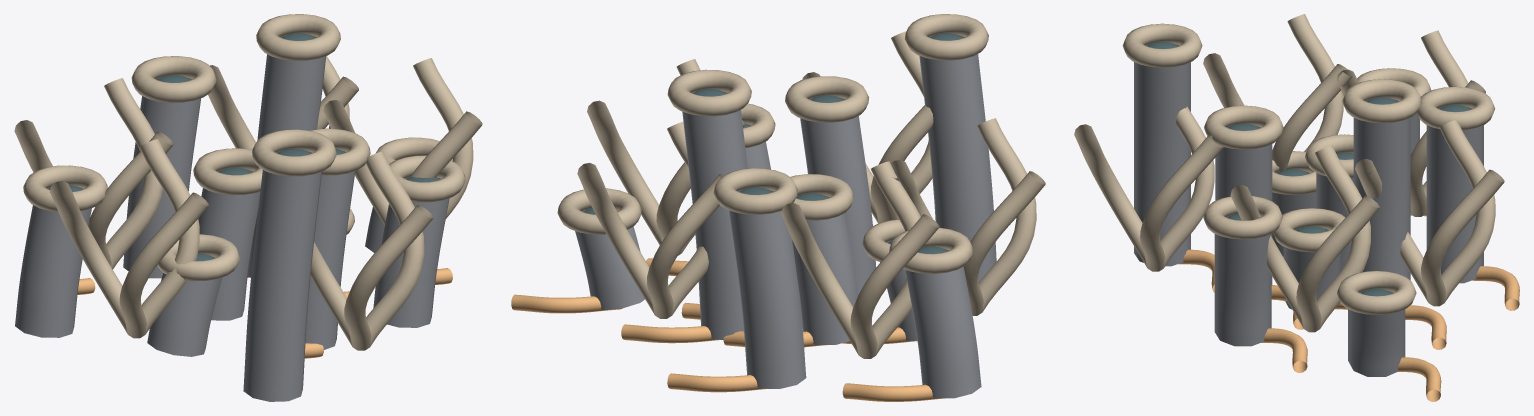
Rendered from bio_thermal_colony_04_near.glb.
The picture shows the model from 3 angles, left to right: view 1: azimuth 30°, elevation 25°; view 2: azimuth 150°, elevation 25°; view 3: azimuth 270°, elevation 25°; orthographic projection. The views are drawn at different scales.
Visible parts, largest first — view 1: Chimney biofilm.007, Spiral filament.012, Spiral filament.006, Spiral filament.003, Chimney biofilm.009, Spiral filament, Chimney biofilm.003, Chimney biofilm.002, Chimney biofilm.006, Chimney biofilm.001, Chimney biofilm.005, Chimney biofilm.004 (+11 smaller); view 2: Chimney biofilm.007, Chimney biofilm.006, Spiral filament.003, Chimney biofilm.003, Spiral filament.009, Chimney biofilm.009, Spiral filament.012, Chimney biofilm.002, Chimney biofilm.001, Spiral filament, Spiral filament.006, Chimney biofilm.008 (+15 smaller); view 3: Spiral filament.006, Spiral filament, Spiral filament.009, Chimney biofilm.007, Chimney biofilm.003, Chimney biofilm.005, Spiral filament.012, Chimney biofilm.006, Chimney biofilm.008, Spiral filament.003, Chimney biofilm.002, Open vent rim.003 (+17 smaller).
Boxes of the visible parts, box(x1,y1,x2,y2) form: Chimney biofilm.007: box(243, 151, 321, 401); Spiral filament.012: box(50, 139, 208, 338); Spiral filament.006: box(310, 151, 433, 350); Spiral filament.003: box(14, 78, 173, 269); Chimney biofilm.009: box(15, 187, 91, 337); Spiral filament: box(323, 58, 482, 225); Chimney biofilm.003: box(247, 36, 326, 277); Chimney biofilm.002: box(305, 150, 355, 349); Chimney biofilm.006: box(123, 77, 200, 278); Chimney biofilm.001: box(198, 170, 260, 320); Chimney biofilm.005: box(373, 177, 449, 327); Chimney biofilm.004: box(147, 256, 222, 356); Chimney biofilm.007: box(919, 35, 996, 282); Chimney biofilm.006: box(729, 189, 806, 388); Spiral filament.003: box(781, 161, 939, 358); Chimney biofilm.003: box(682, 91, 747, 339); Spiral filament.009: box(577, 121, 723, 318); Chimney biofilm.009: box(905, 248, 981, 398); Spiral filament.012: box(891, 118, 1045, 315); Chimney biofilm.002: box(800, 98, 876, 294); Chimney biofilm.001: box(792, 196, 858, 345); Spiral filament: box(587, 59, 744, 255); Spiral filament.006: box(802, 31, 933, 223); Chimney biofilm.008: box(575, 210, 644, 309); Spiral filament.006: box(1074, 106, 1223, 271); Spiral filament: box(1230, 145, 1379, 332); Spiral filament.009: box(1355, 120, 1504, 306); Chimney biofilm.007: box(1134, 44, 1190, 266); Chimney biofilm.003: box(1353, 100, 1410, 280); Chimney biofilm.005: box(1214, 216, 1271, 346); Spiral filament.012: box(1203, 14, 1352, 172); Chimney biofilm.006: box(1426, 107, 1483, 283); Chimney biofilm.008: box(1348, 292, 1405, 376); Spiral filament.003: box(1336, 30, 1485, 216); Chimney biofilm.002: box(1215, 126, 1272, 284); Open vent rim.003: box(1342, 79, 1421, 123).
Size of the model in its own units: 1.75 by 0.9095 by 1.56.
